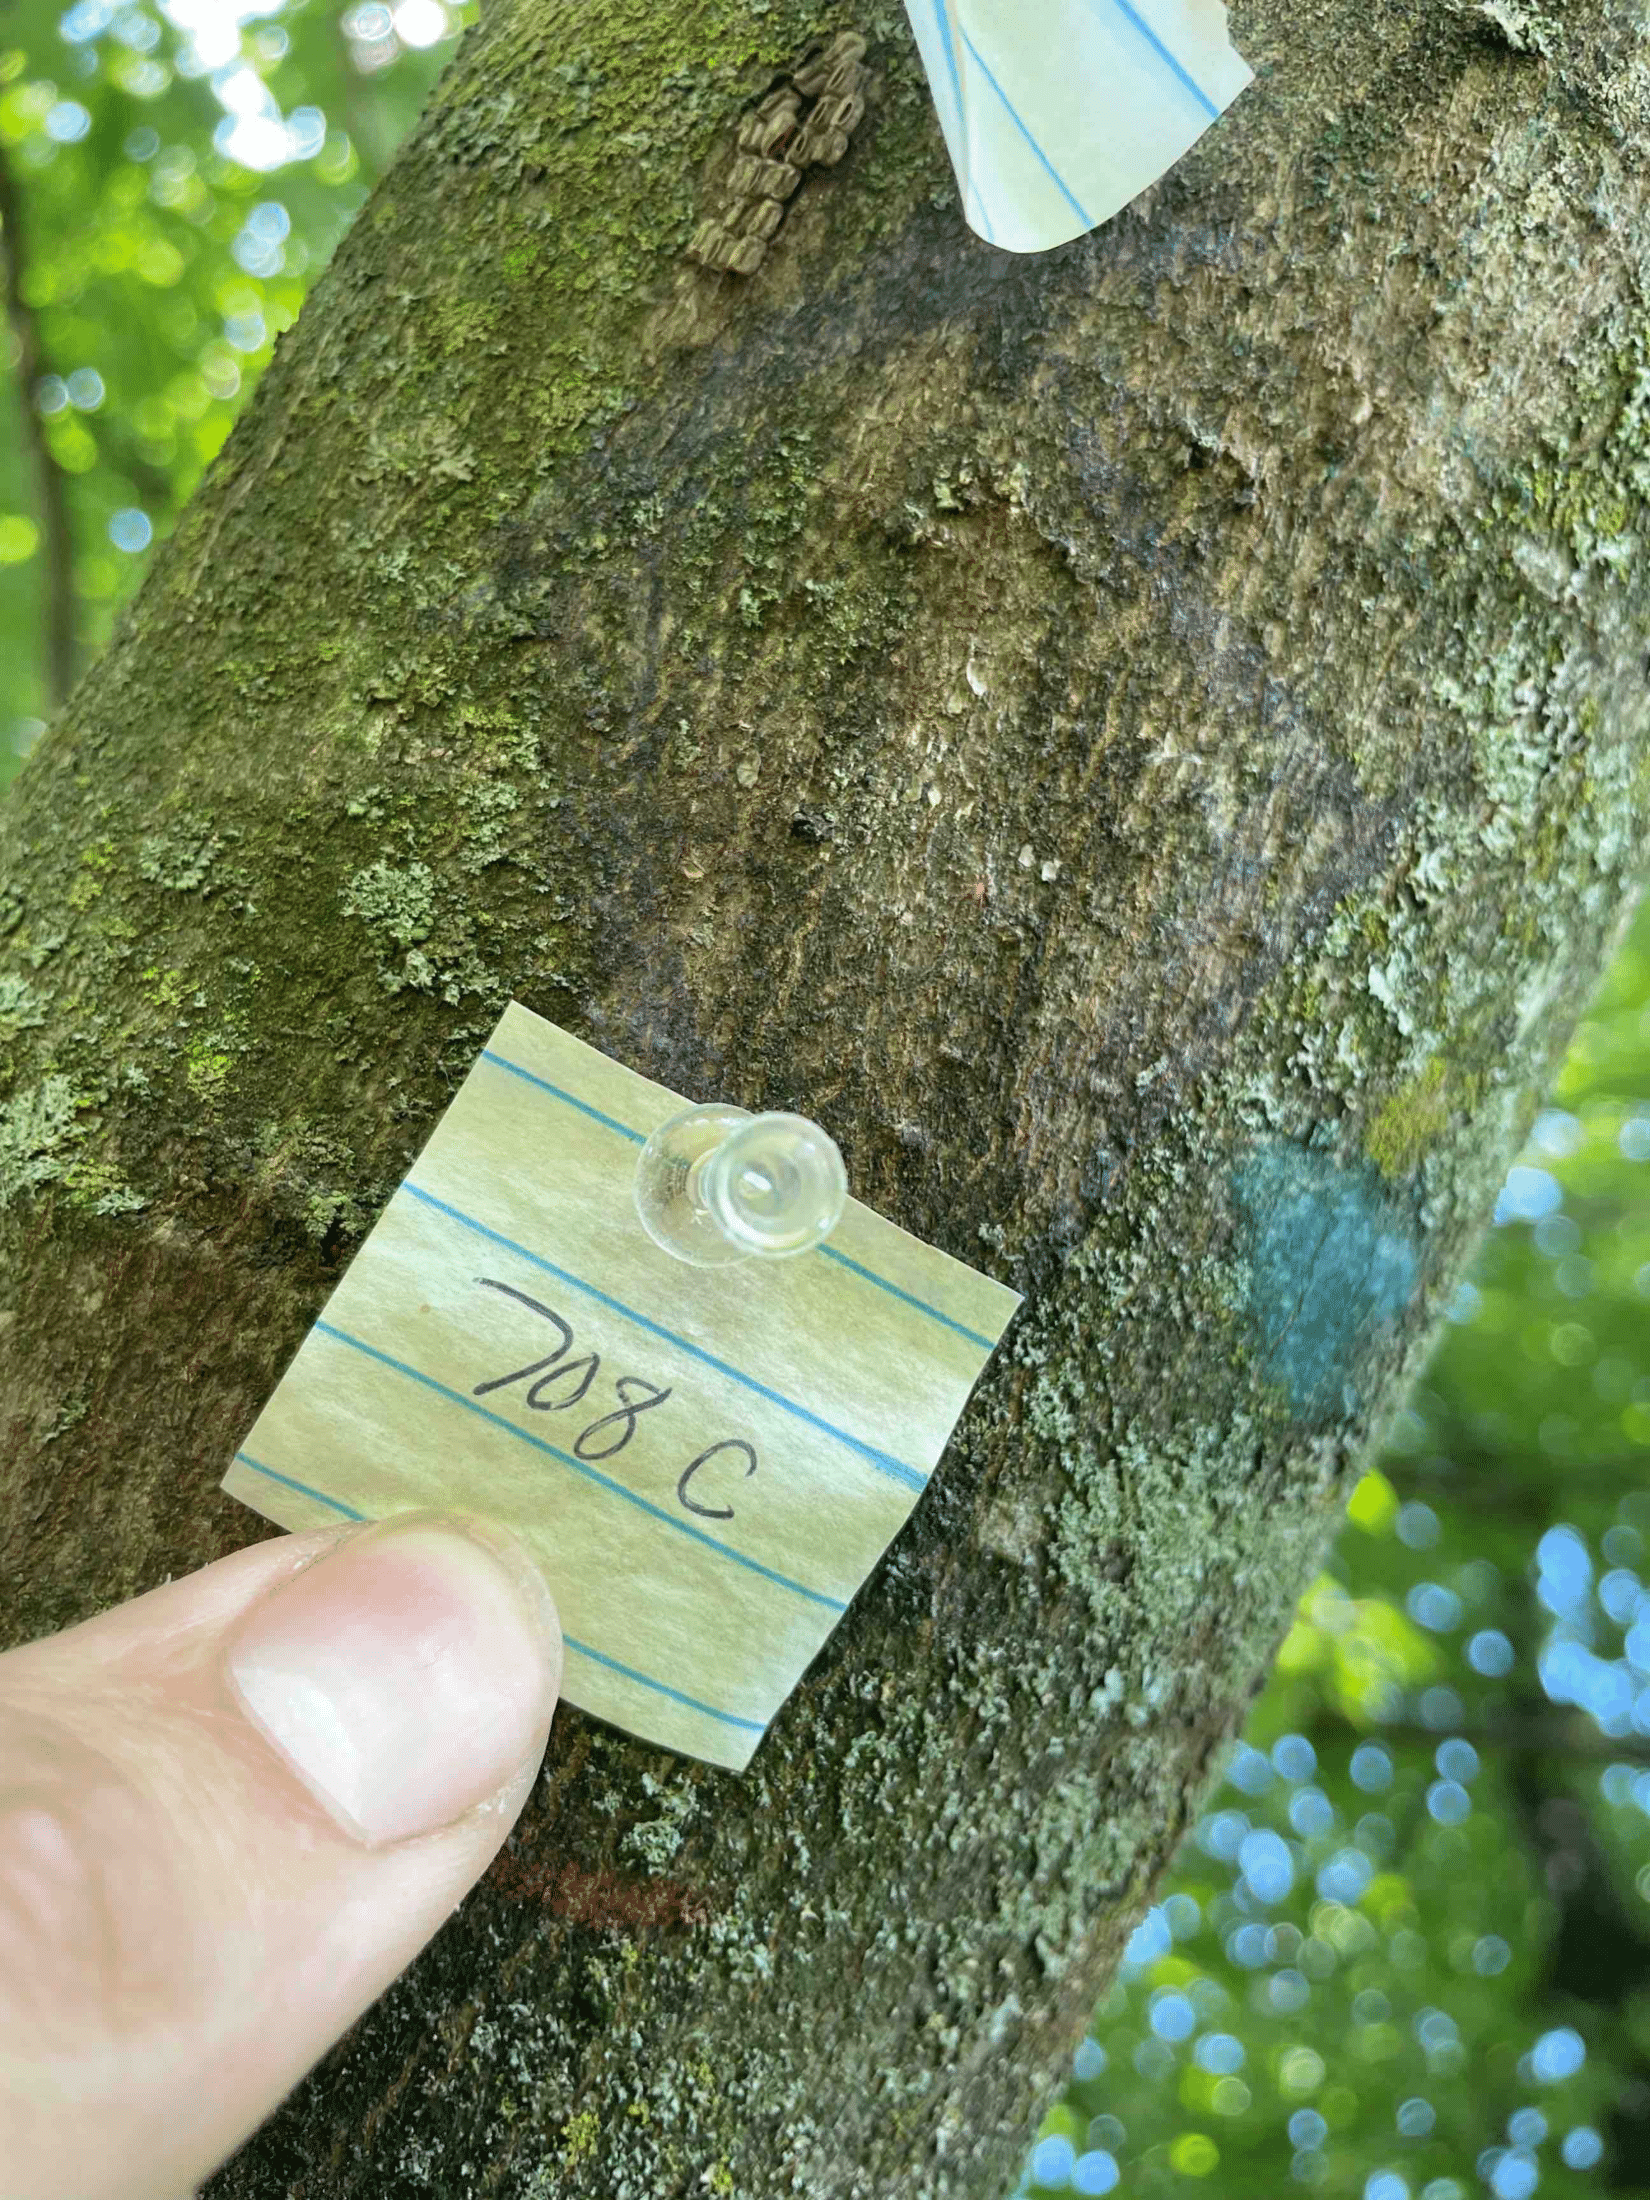egg masses: (924, 625, 990, 828)
